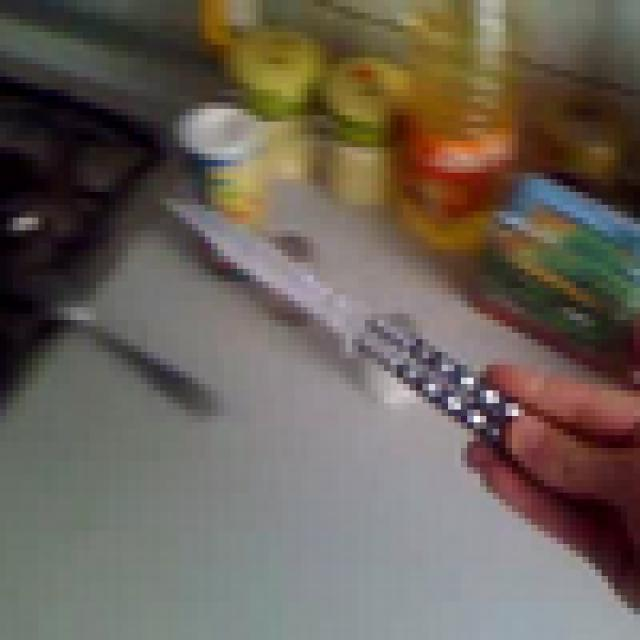knife: (134, 154, 589, 577)
